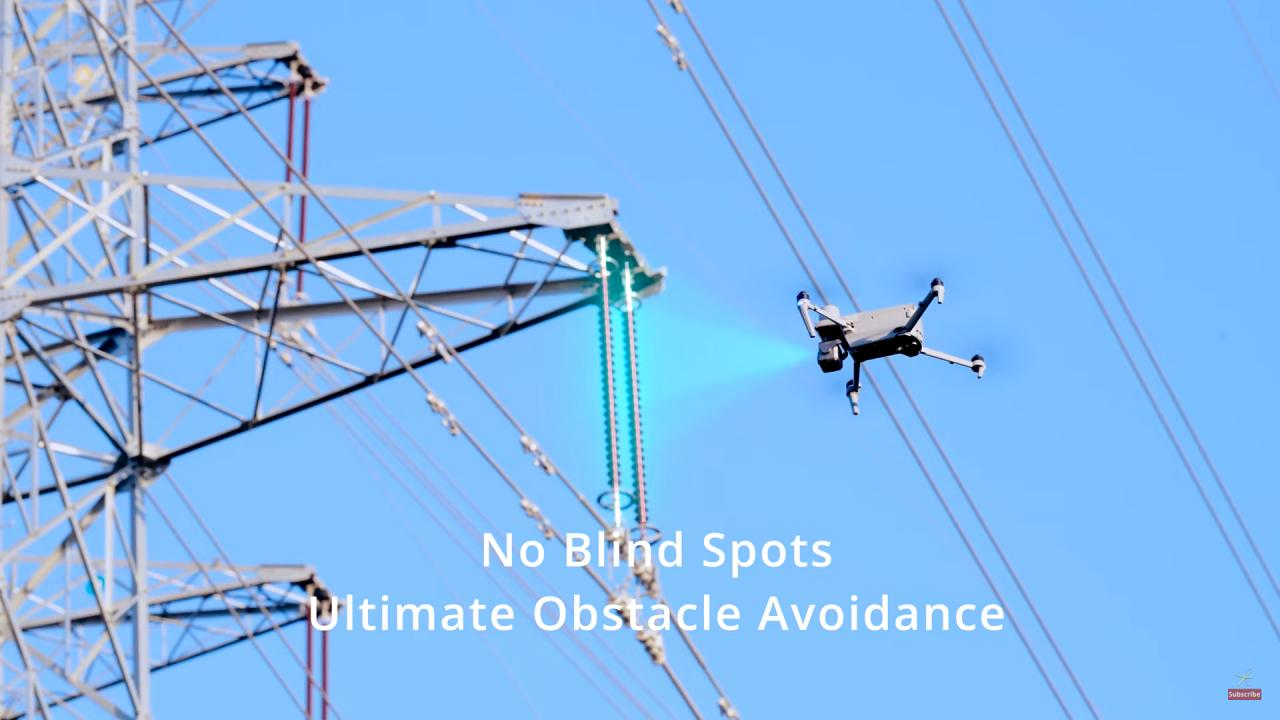Drone: (780, 261, 1008, 428)
